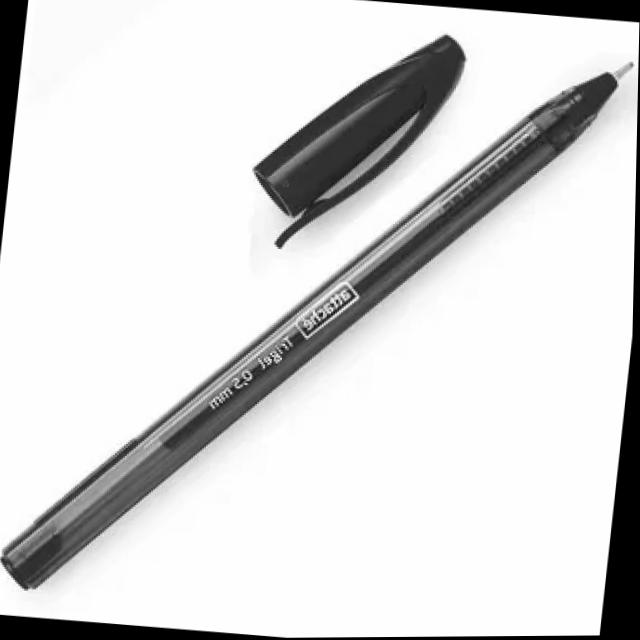pen: (0, 7, 636, 636)
